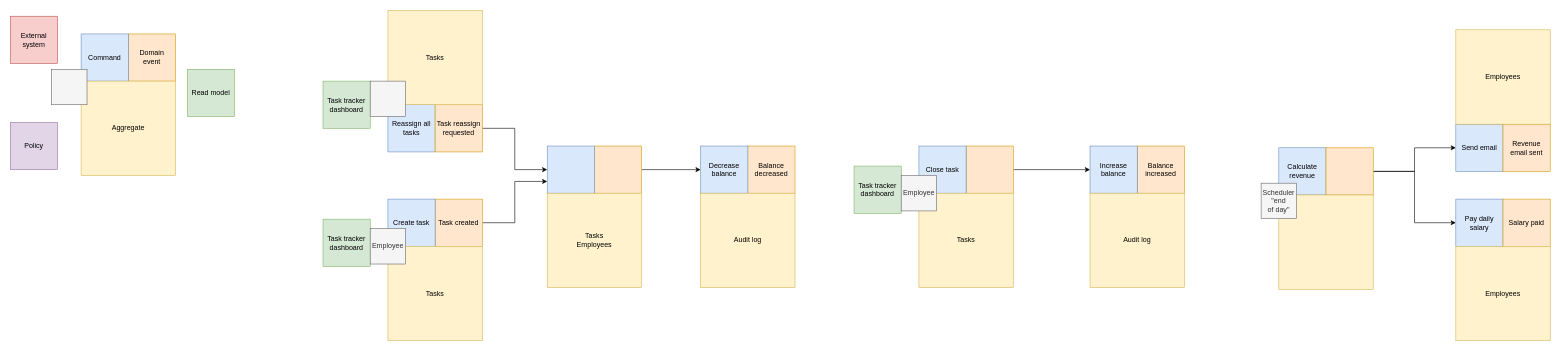
Some shapes in this 1561 by 351 pixel diagram are drawn without their labels. Here are the shapes that lost their labels. From the top down, the box of each, then its label:
(51, 69, 87, 105): Actor
(370, 81, 406, 117): Manager Admin
(547, 145, 594, 193): Assign task
(594, 145, 642, 193): Task assigned
(966, 145, 1013, 193): Task closed
(1325, 147, 1373, 195): Daily revenue calculated
(1278, 194, 1373, 289): Tasks for the day Audit log
